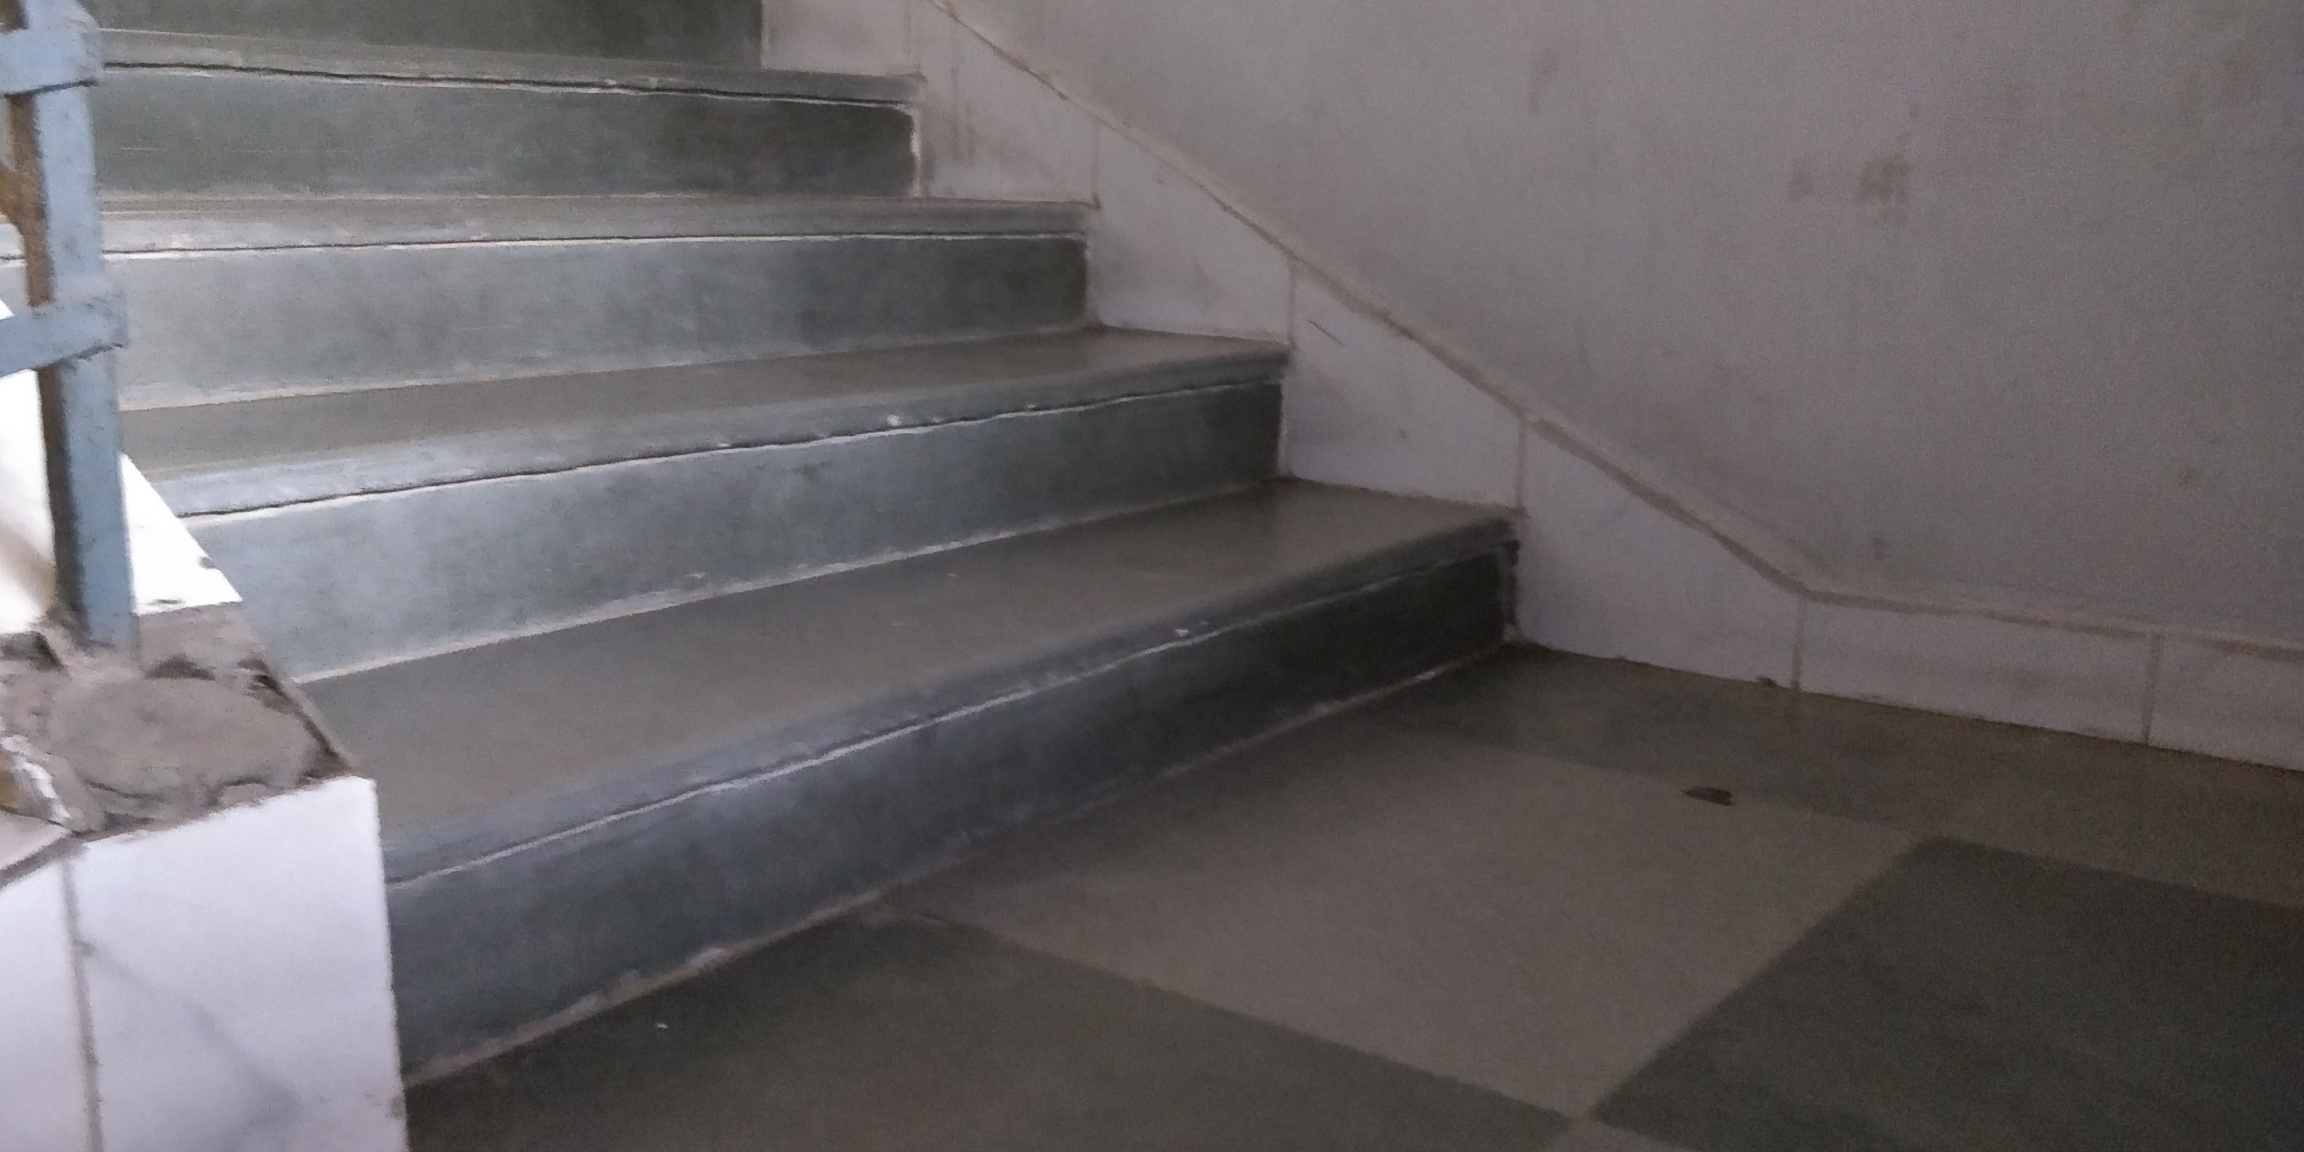stairs_up: (54, 12, 1583, 1009)
